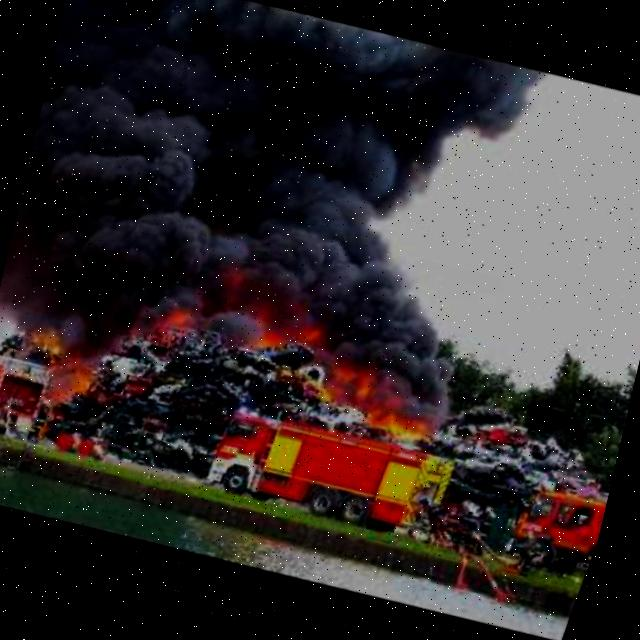fire: (295, 350, 457, 466), (0, 314, 107, 432), (230, 300, 326, 380), (112, 293, 199, 365)
